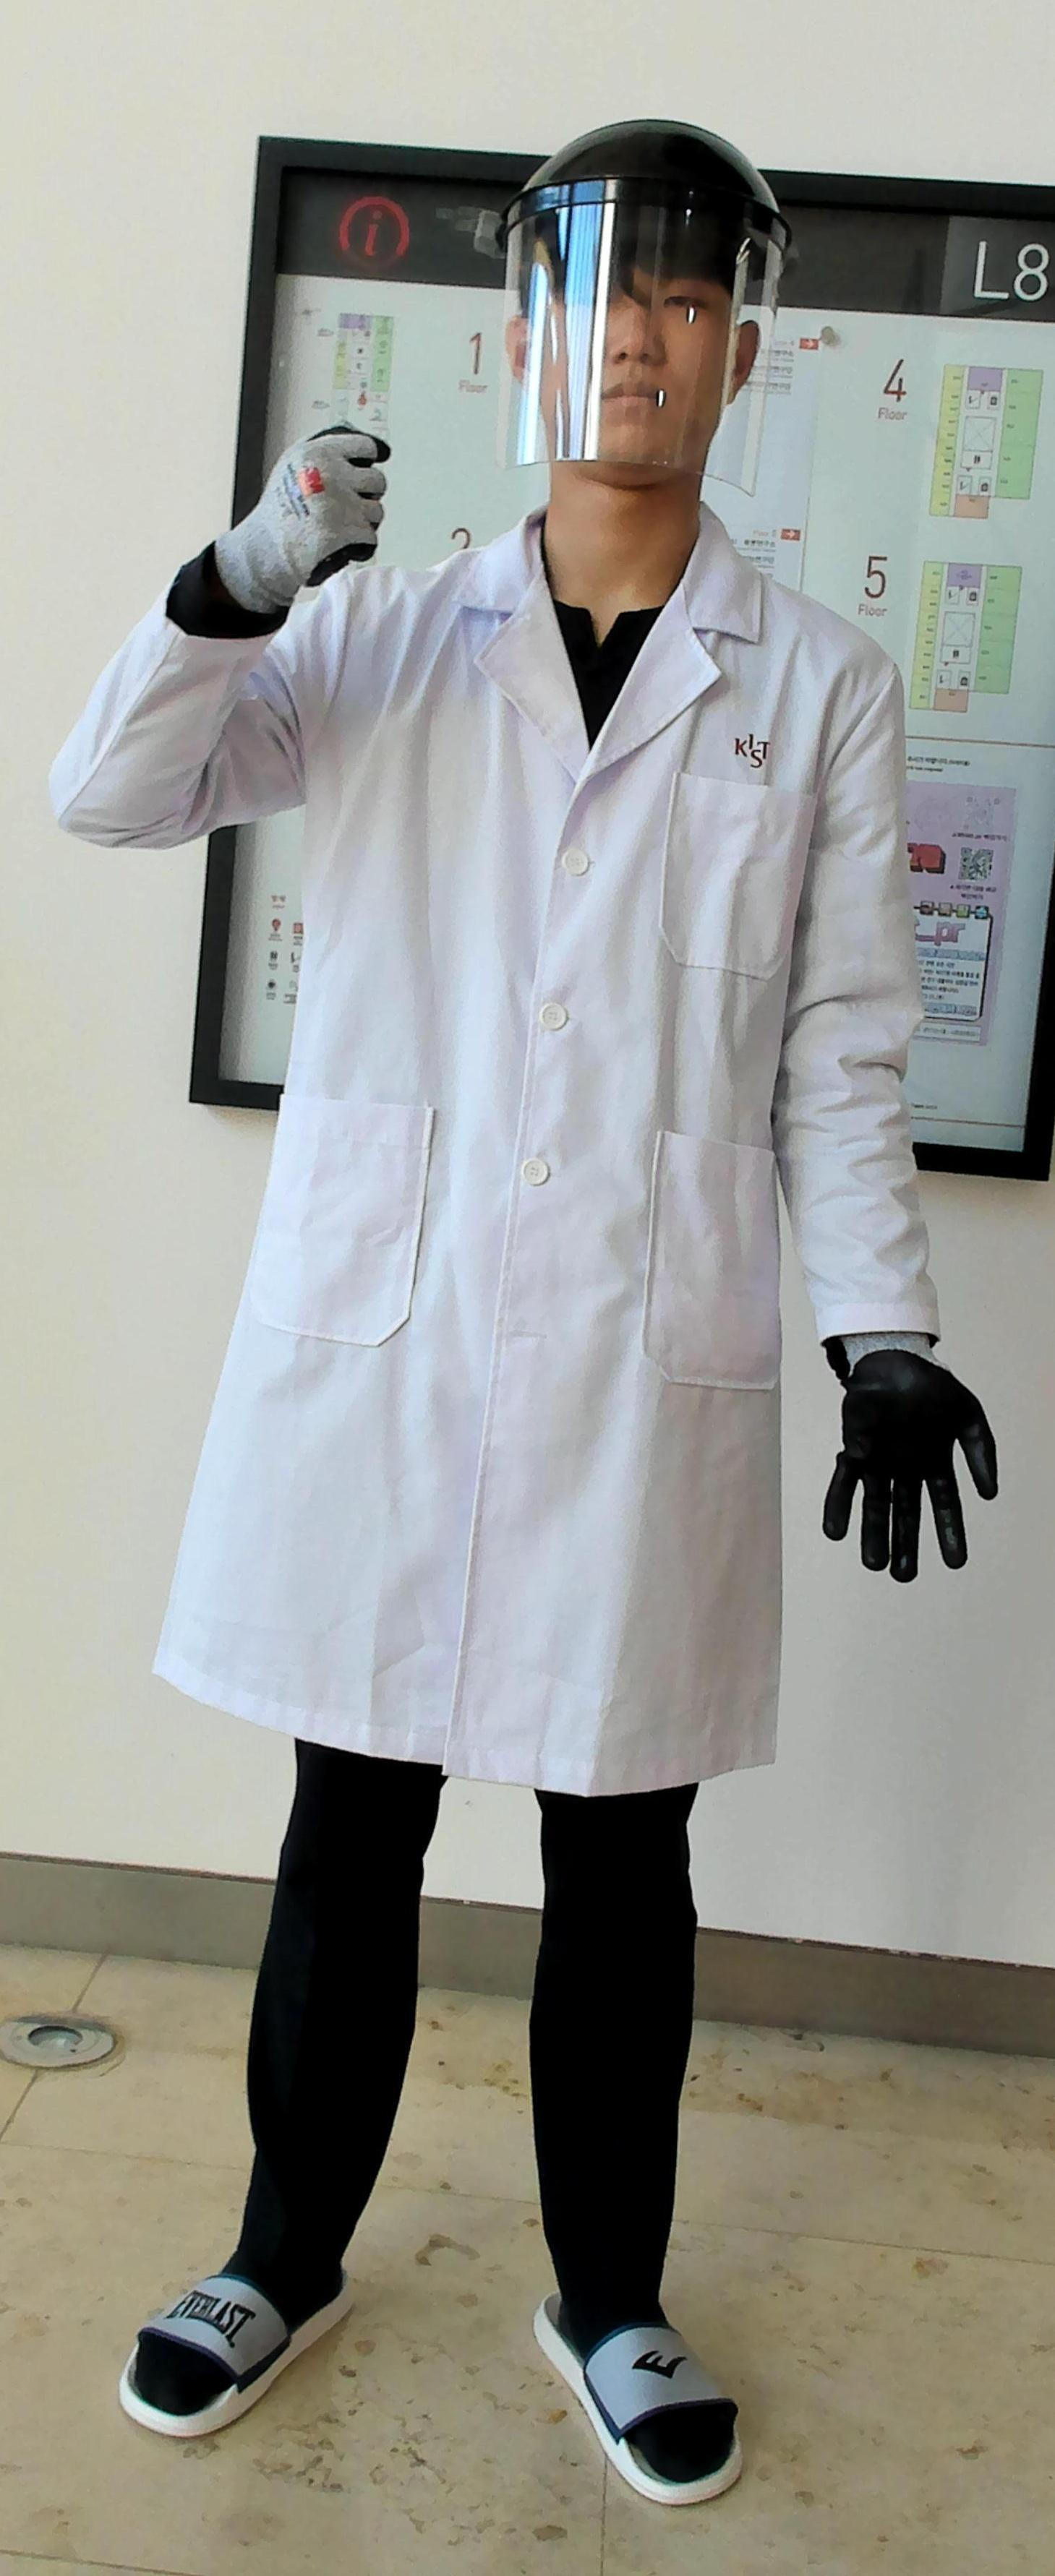lab_coat: (235, 637, 876, 1750)
